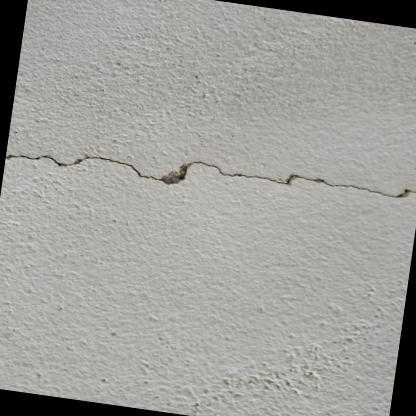crack: (5, 152, 416, 196)
